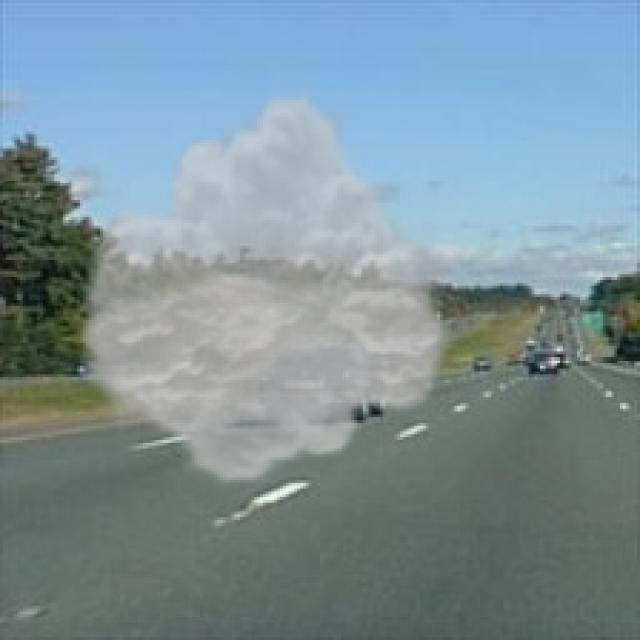Smoke: (68, 86, 460, 488)
